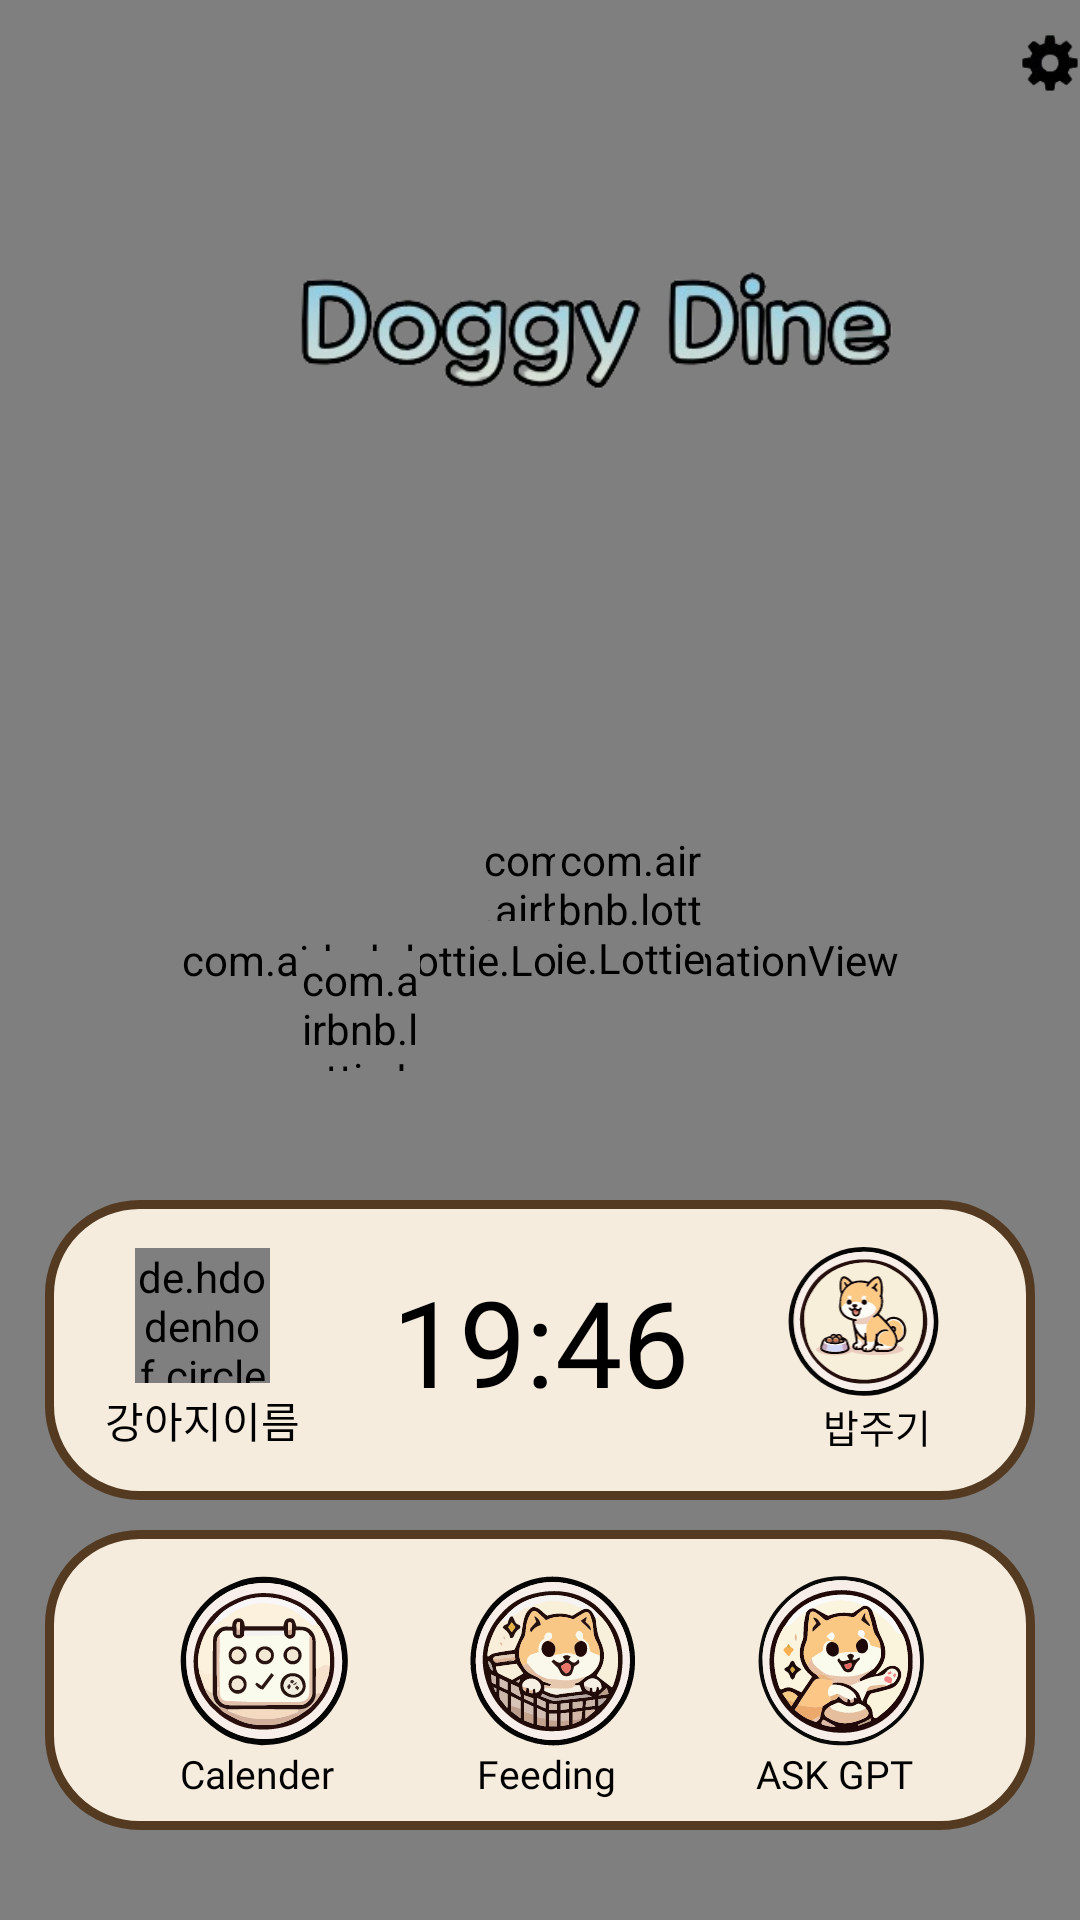

Screen size 1080x1920. Icon name, then its box in pixels as (x1,y1,x2,y2):
setting: (1022,35,1078,91)
